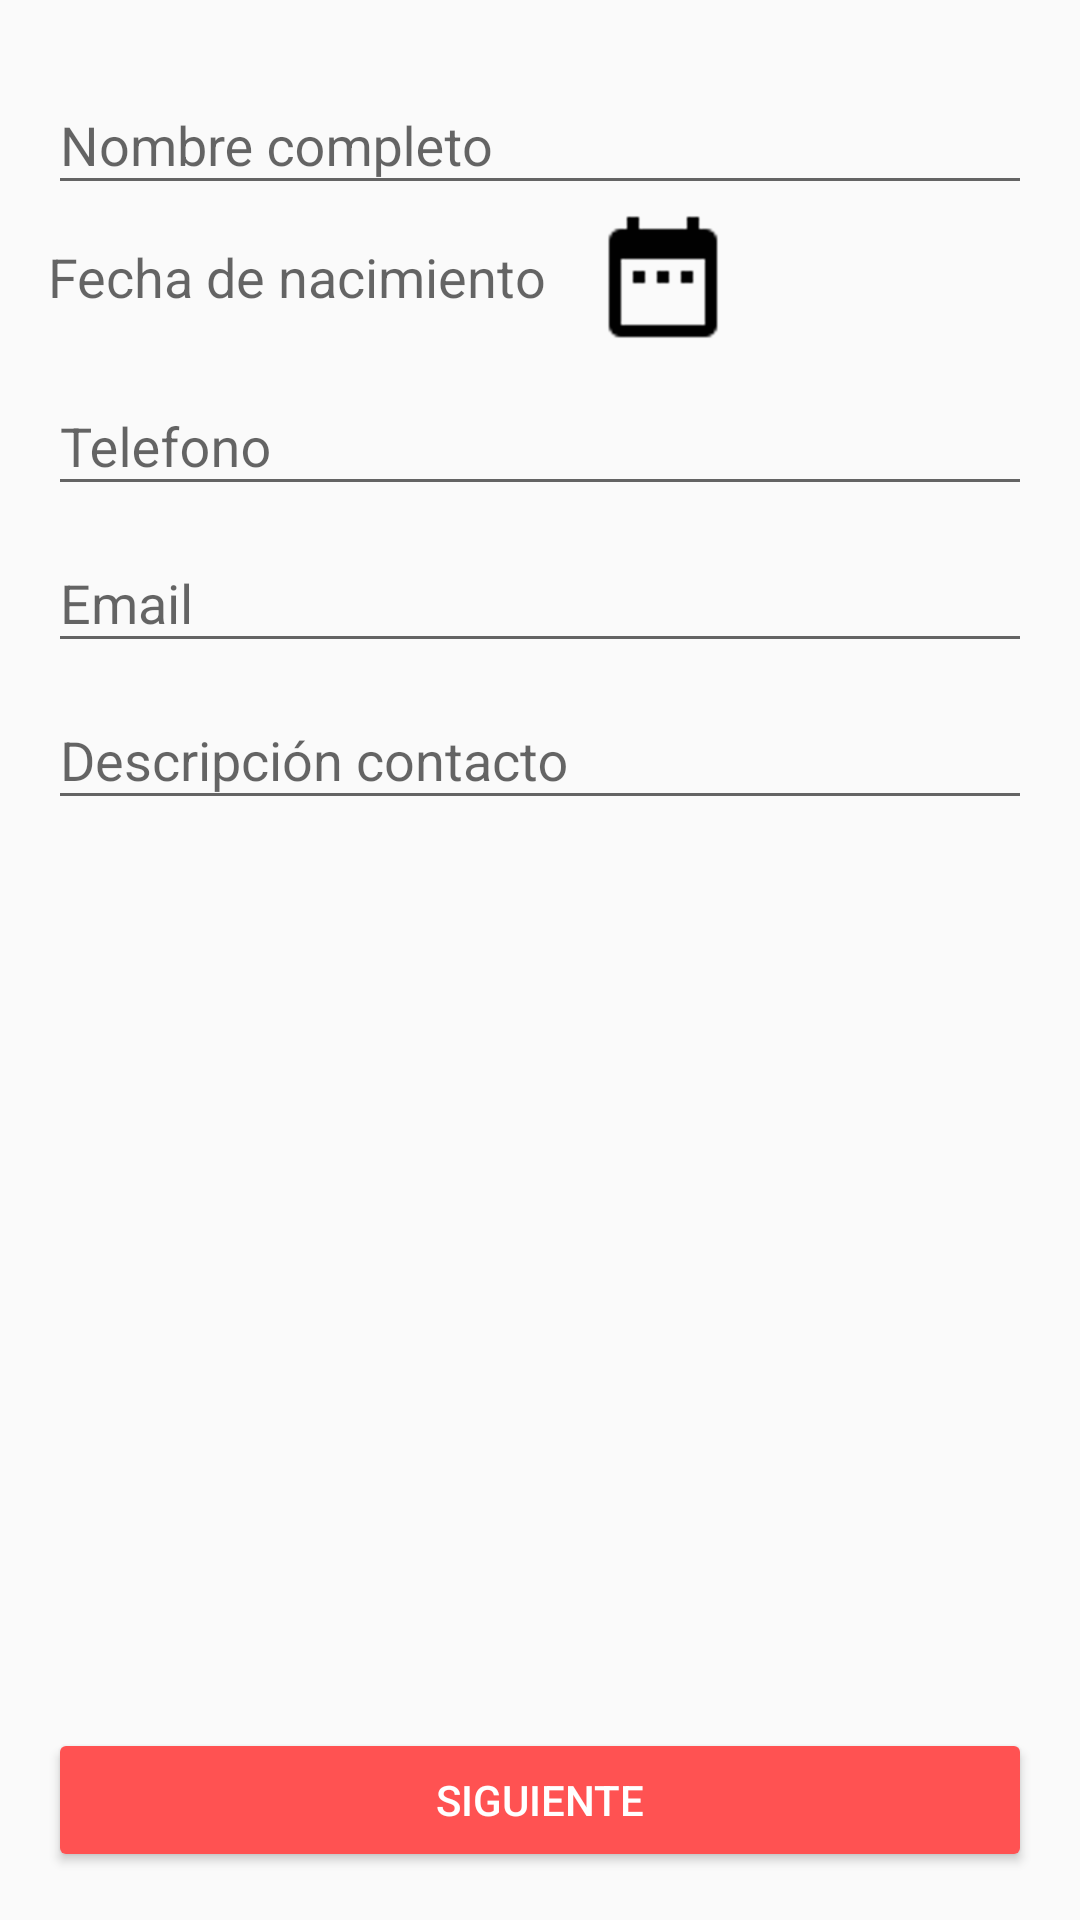

Icons on this 1080 × 1920 Android screen, each with the point to tap as [x,y]:
date range: [663,277]
